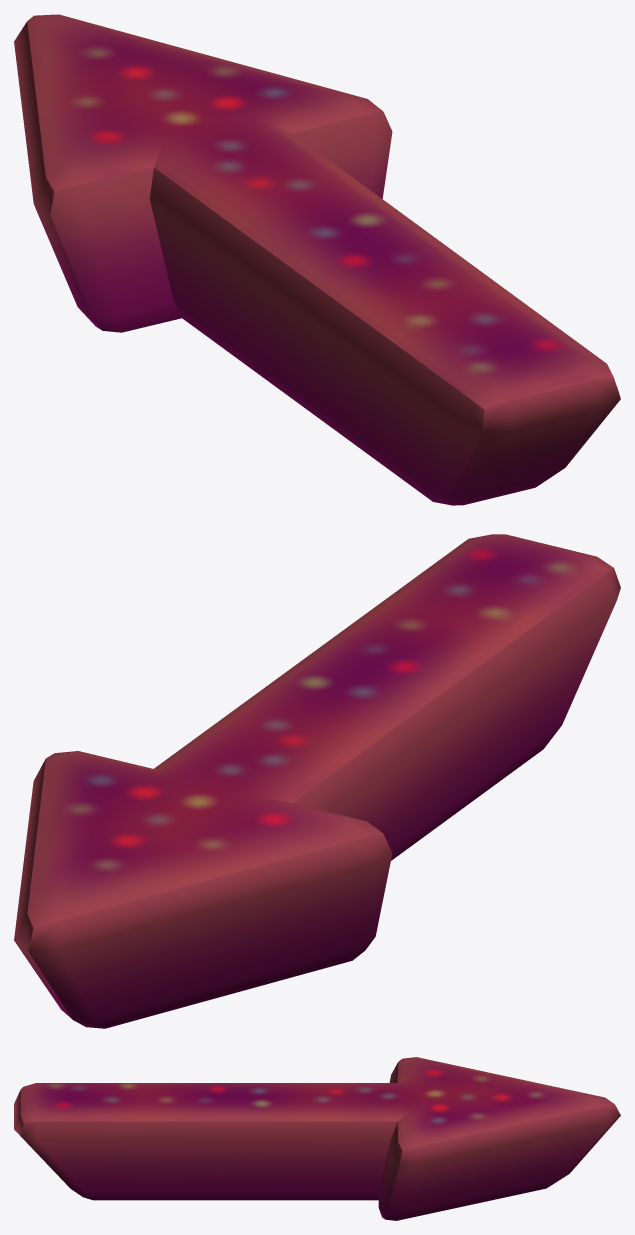
Rendered from yazirushi_03.fbx.
The picture shows the model from 3 angles, top to bottom: view 1: azimuth 30°, elevation 25°; view 2: azimuth 150°, elevation 25°; view 3: azimuth 270°, elevation 25°; orthographic projection. The views are drawn at different scales.
Visible parts, largest first — view 1: yazirusi6; view 2: yazirusi6; view 3: yazirusi6.
Part boxes in pixels (x1,y1,x2,y2): yazirusi6: (14, 14, 620, 505); yazirusi6: (14, 534, 620, 1028); yazirusi6: (14, 1057, 620, 1220).
Bounding box in the file's own units: 2.17 × 0.9804 × 5.78.
